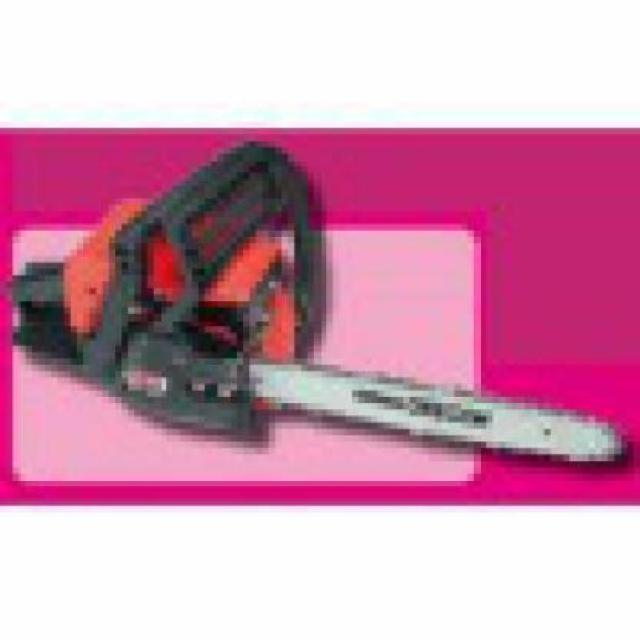Chainsaw: (0, 140, 635, 471)
